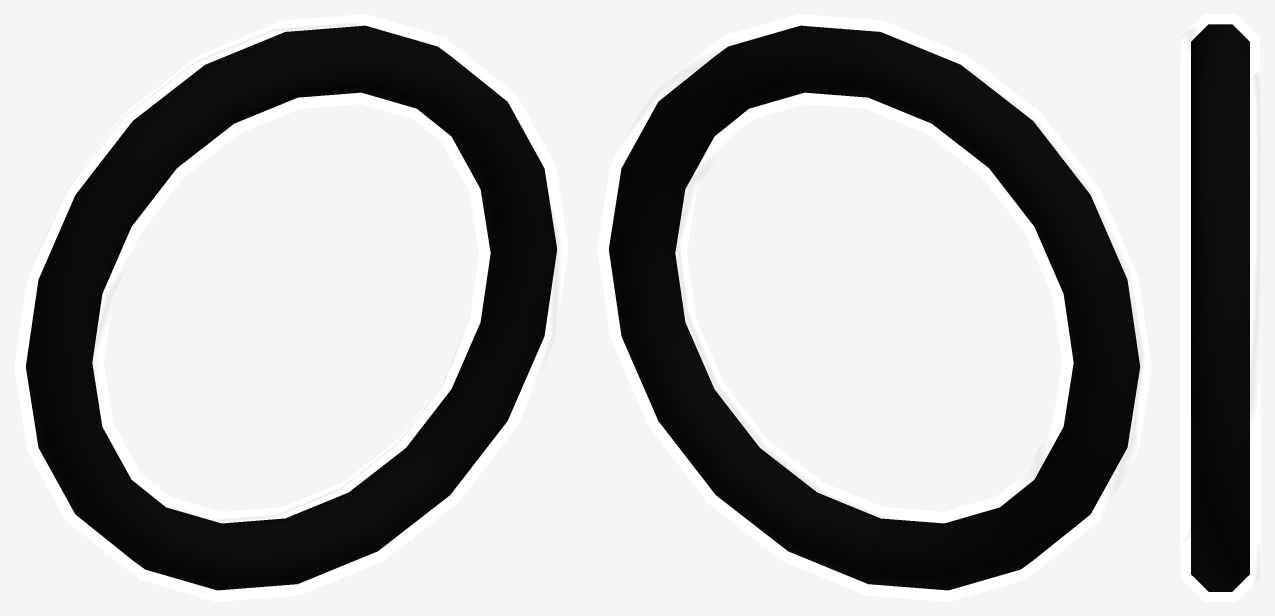
The model's file is characterHead.glb.
3 renders of one model, left to right at view 1: azimuth 30°, elevation 25°; view 2: azimuth 150°, elevation 25°; view 3: azimuth 270°, elevation 25°, orthographic. The views are drawn at different scales.
Parts seen in each view (by area): view 1: Head, HeadOutline; view 2: Head, HeadOutline; view 3: Head, HeadOutline.
Part boxes in pixels (x1,y1,x2,y2): Head: (25,25,557,590); HeadOutline: (14,14,568,601); Head: (608,25,1140,590); HeadOutline: (597,14,1151,601); Head: (1191,24,1249,591); HeadOutline: (1180,14,1260,601).
Bounding box in the file's own units: 0.00105 × 0.00105 × 0.000142.
2 materials, 2 textured.
